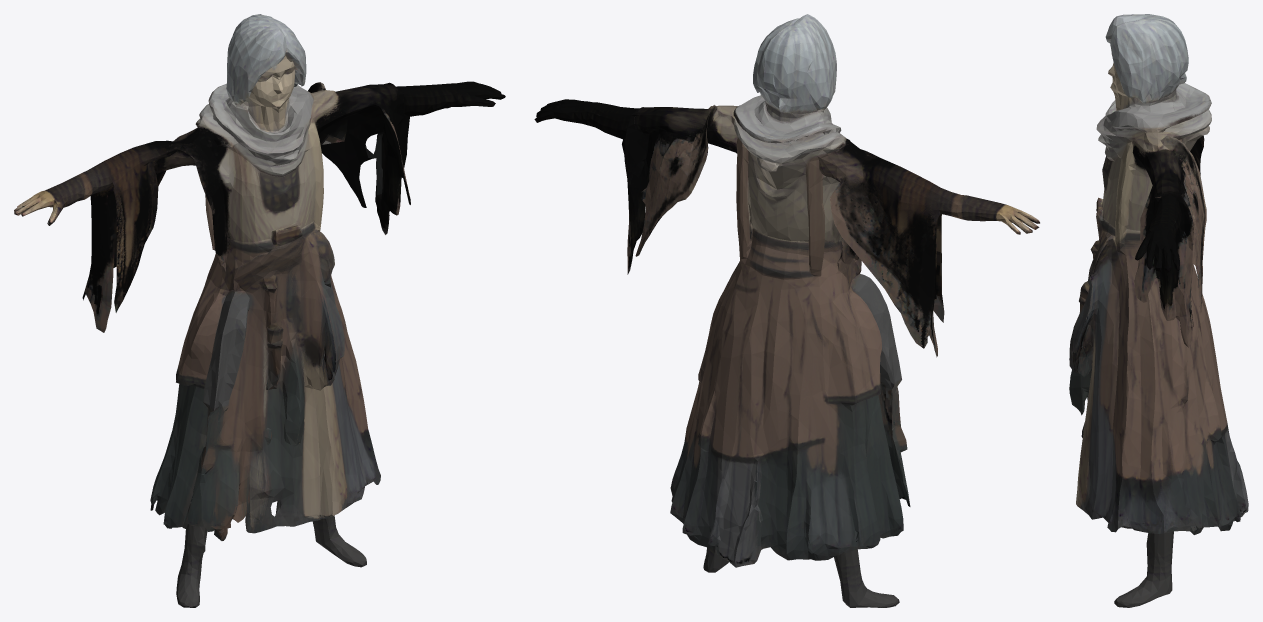
The model's file is Chancery Worker 2.fbx.
The picture shows the model from 3 angles, left to right: view 1: azimuth 30°, elevation 25°; view 2: azimuth 150°, elevation 25°; view 3: azimuth 270°, elevation 25°; orthographic projection. The views are drawn at different scales.
Parts seen in each view (by area): view 1: world; view 2: world; view 3: world.
Part boxes in pixels (bbox=[...]): world: bbox=[14, 14, 505, 607]; world: bbox=[534, 14, 1039, 607]; world: bbox=[1069, 14, 1248, 607].
Size of the model in its own units: 0.9183 by 0.9999 by 0.2961.
Materials: 1 (1 with a texture image).
